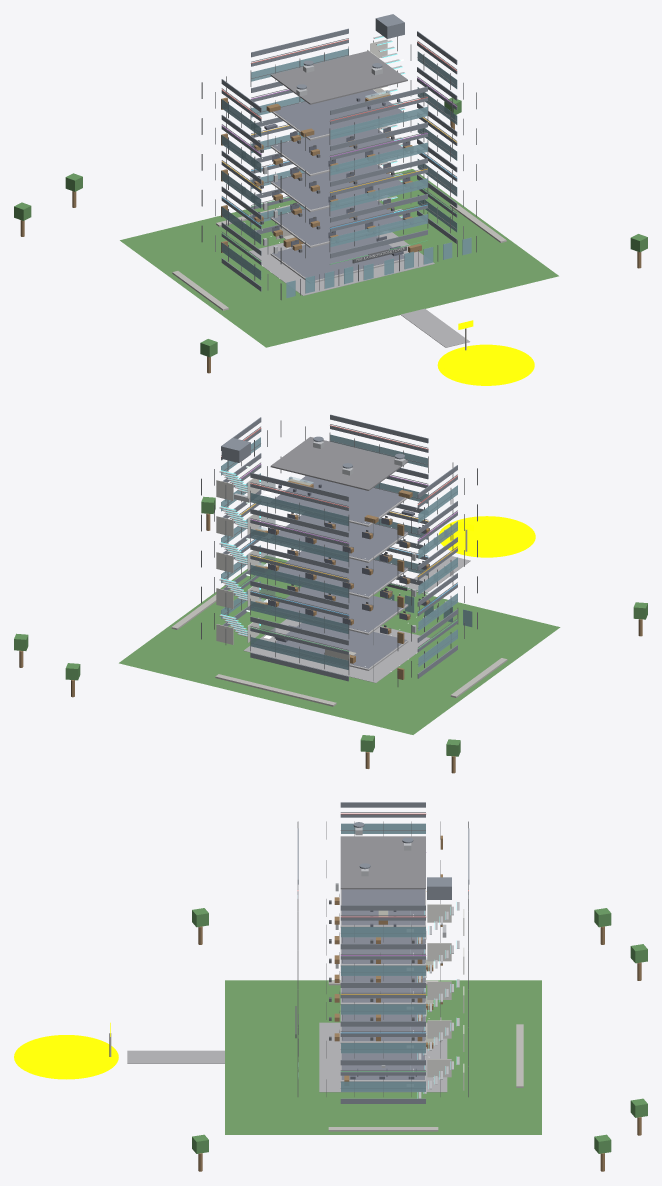
Rendered from OfficeBuilding_5F_Exterior.fbx.
3 renders of one model, top to bottom at view 1: azimuth 30°, elevation 25°; view 2: azimuth 150°, elevation 25°; view 3: azimuth 270°, elevation 25°, orthographic. The views are drawn at different scales.
Parts seen in each view (by area): view 1: Exterior_Environment, Floor_05_Executive, Floor_04_Office, Floor_03_Office, Floor_02_Office, Floor_01_Lobby, Rooftop; view 2: Exterior_Environment, Floor_05_Executive, Floor_04_Office, Floor_03_Office, Floor_02_Office, Floor_01_Lobby, Rooftop; view 3: Exterior_Environment, Floor_05_Executive, Rooftop, Floor_02_Office, Floor_04_Office, Floor_03_Office, Floor_01_Lobby.
Boxes of the visible parts, x1,y1,x2,y2 form: Exterior_Environment: (14, 97, 647, 385); Floor_05_Executive: (201, 35, 476, 156); Floor_04_Office: (201, 70, 476, 192); Floor_03_Office: (201, 117, 476, 228); Floor_02_Office: (201, 153, 476, 264); Floor_01_Lobby: (201, 188, 476, 300); Rooftop: (221, 14, 457, 114); Exterior_Environment: (14, 496, 647, 773); Floor_05_Executive: (201, 420, 477, 542); Floor_04_Office: (201, 456, 477, 578); Floor_03_Office: (201, 503, 477, 614); Floor_02_Office: (201, 539, 477, 650); Floor_01_Lobby: (201, 575, 477, 686); Rooftop: (221, 414, 457, 501); Exterior_Environment: (14, 908, 647, 1171); Floor_05_Executive: (297, 812, 468, 949); Rooftop: (297, 802, 469, 910); Floor_02_Office: (297, 943, 468, 1065); Floor_04_Office: (297, 852, 468, 987); Floor_03_Office: (297, 891, 468, 1026); Floor_01_Lobby: (297, 981, 468, 1103).
Size of the model in its own units: 4541 by 1956 by 5200.
